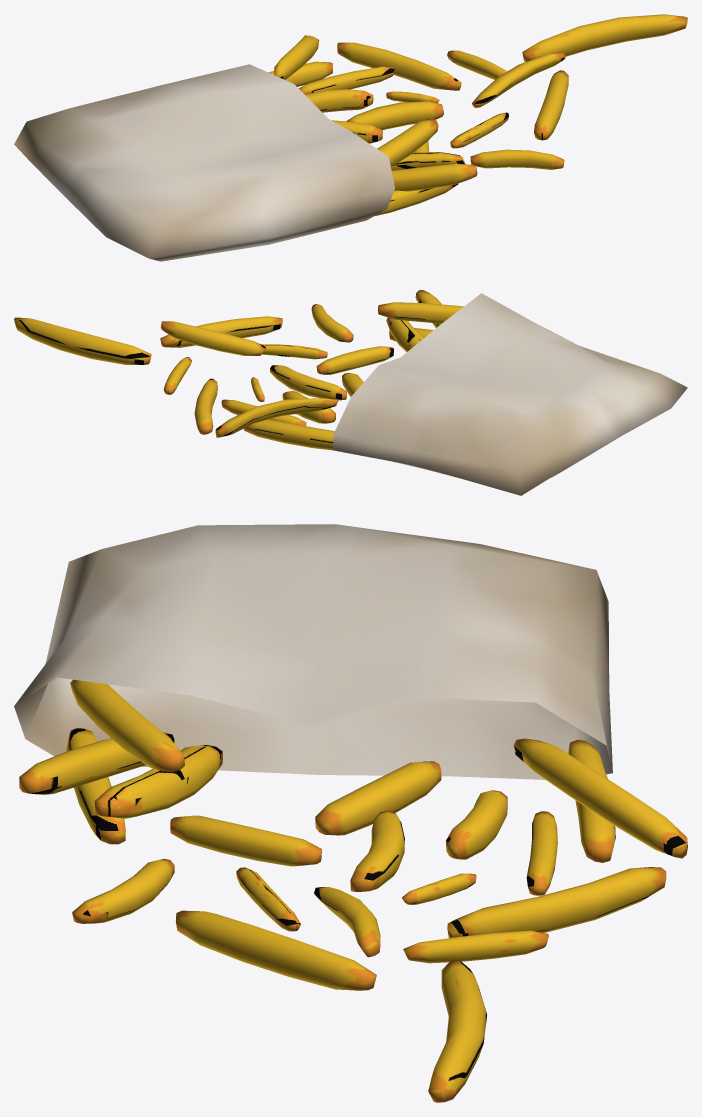
File: PATATASFBX.FBX
The picture shows the model from 3 angles, top to bottom: view 1: azimuth 30°, elevation 25°; view 2: azimuth 150°, elevation 25°; view 3: azimuth 270°, elevation 25°; orthographic projection. The views are drawn at different scales.
Visible parts, largest first — view 1: Group5559, Group5574, Group5769, Group5799, Group5694, Group5664, Group5589, Group5604, Group5724, Group5814, Group5709, Group5649 (+7 smaller); view 2: Group5559, Group5574, Group5649, Group5589, Group5679, Group5604, Group5814, Group5694, Group5739, Group5769, Group5664, Group5754 (+5 smaller); view 3: Group5559, Group5769, Group5604, Group5649, Group5574, Group5784, Group5829, Group5814, Group5739, Group5799, Group5634, Group5664 (+8 smaller).
Boxes of the visible parts, x1,y1,x2,y2 form: Group5559: (14, 64, 394, 261); Group5574: (522, 14, 687, 61); Group5769: (337, 42, 461, 90); Group5799: (391, 163, 477, 191); Group5694: (346, 101, 443, 129); Group5664: (470, 149, 564, 169); Group5589: (472, 52, 565, 107); Group5604: (534, 70, 568, 140); Group5724: (299, 66, 394, 94); Group5814: (377, 119, 438, 166); Group5709: (305, 89, 373, 112); Group5649: (274, 35, 319, 79); Group5559: (332, 293, 687, 495); Group5574: (14, 317, 151, 364); Group5649: (215, 398, 338, 437); Group5589: (160, 321, 265, 355); Group5679: (243, 419, 334, 450); Group5604: (160, 316, 282, 347); Group5814: (378, 302, 463, 323); Group5694: (270, 365, 346, 400); Group5739: (316, 346, 393, 374); Group5769: (194, 378, 217, 434); Group5664: (311, 304, 353, 342); Group5754: (261, 344, 327, 359); Group5559: (14, 524, 612, 779); Group5769: (447, 867, 666, 938); Group5604: (175, 910, 376, 990); Group5649: (513, 738, 687, 858); Group5574: (428, 960, 486, 1102); Group5784: (94, 745, 222, 818); Group5829: (315, 761, 441, 835); Group5814: (70, 679, 184, 772); Group5739: (170, 815, 321, 866); Group5799: (19, 732, 174, 794); Group5634: (403, 930, 548, 963); Group5664: (72, 858, 174, 923).
Bounding box in the file's own units: 688 × 68.74 × 363.
Materials: 2 (2 with a texture image).
